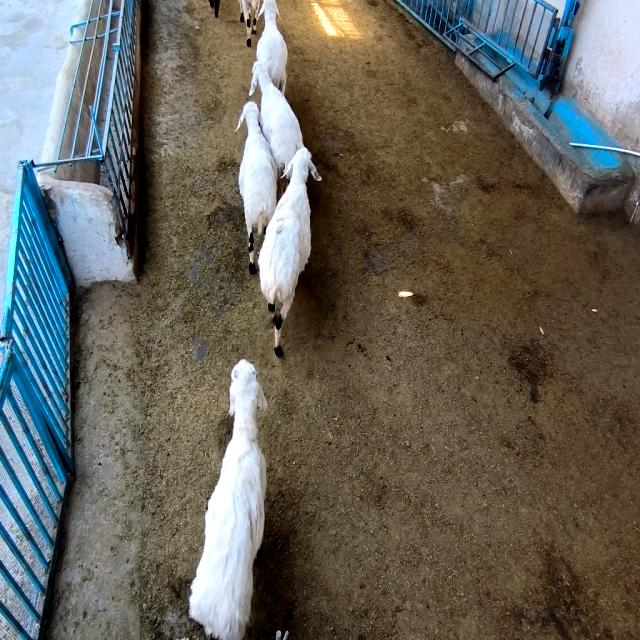sheep: (189, 360, 266, 638), (259, 147, 321, 357), (238, 102, 278, 272), (250, 62, 304, 178), (256, 0, 288, 94)
